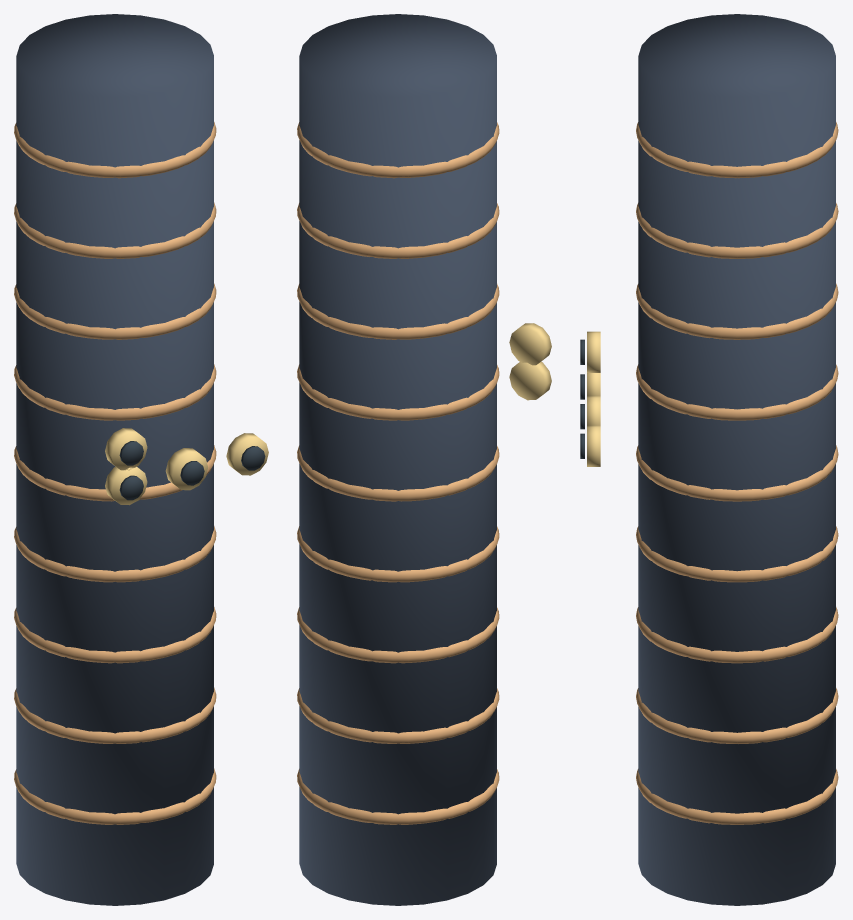
Rendered from 35_L92_DrillSpindleAssembly.fbx.
3 renders of one model, left to right at view 1: azimuth 30°, elevation 25°; view 2: azimuth 150°, elevation 25°; view 3: azimuth 270°, elevation 25°, orthographic.
Parts seen in each view (by area): view 1: L92_DrillSpindleAssembly_Part_0000, L92_DrillSpindleAssembly_Part_0001, L92_DrillSpindleAssembly_Part_0006, L92_DrillSpindleAssembly_Part_0004, L92_DrillSpindleAssembly_Part_0008, L92_DrillSpindleAssembly_Part_0002; view 2: L92_DrillSpindleAssembly_Part_0000, L92_DrillSpindleAssembly_Part_0001, L92_DrillSpindleAssembly_Part_0008, L92_DrillSpindleAssembly_Part_0002; view 3: L92_DrillSpindleAssembly_Part_0000, L92_DrillSpindleAssembly_Part_0001, L92_DrillSpindleAssembly_Part_0006, L92_DrillSpindleAssembly_Part_0008.
Boxes of the visible parts, x1,y1,x2,y2 form: L92_DrillSpindleAssembly_Part_0000: (16,14,213,905); L92_DrillSpindleAssembly_Part_0001: (14,122,216,824); L92_DrillSpindleAssembly_Part_0006: (226,433,268,475); L92_DrillSpindleAssembly_Part_0004: (165,448,207,490); L92_DrillSpindleAssembly_Part_0008: (105,428,147,470); L92_DrillSpindleAssembly_Part_0002: (105,466,147,505); L92_DrillSpindleAssembly_Part_0000: (299,14,496,905); L92_DrillSpindleAssembly_Part_0001: (297,122,499,824); L92_DrillSpindleAssembly_Part_0008: (509,323,551,365); L92_DrillSpindleAssembly_Part_0002: (509,361,551,400); L92_DrillSpindleAssembly_Part_0000: (638,14,835,905); L92_DrillSpindleAssembly_Part_0001: (636,122,838,824); L92_DrillSpindleAssembly_Part_0006: (587,425,600,466); L92_DrillSpindleAssembly_Part_0008: (587,331,600,372).
Bounding box in the file's own units: 0.636 × 2.8 × 0.81.
